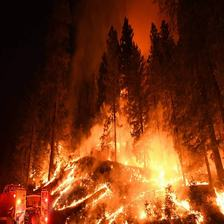fire: (39, 109, 215, 218)
